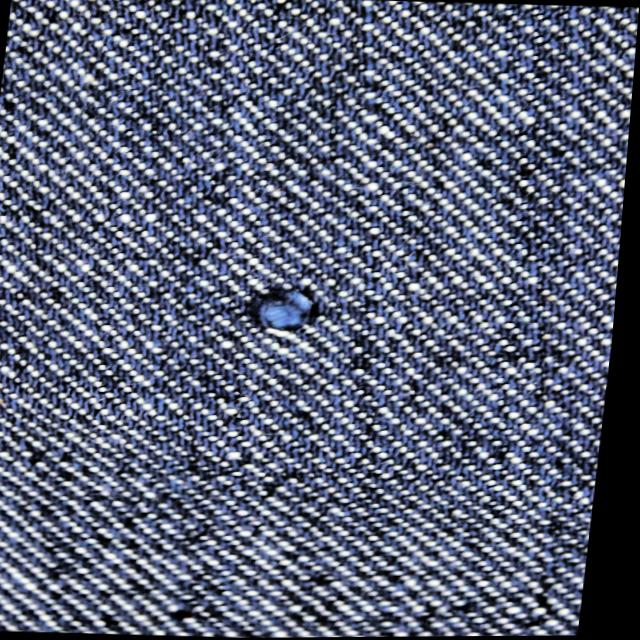Hole: (265, 289, 322, 332)
